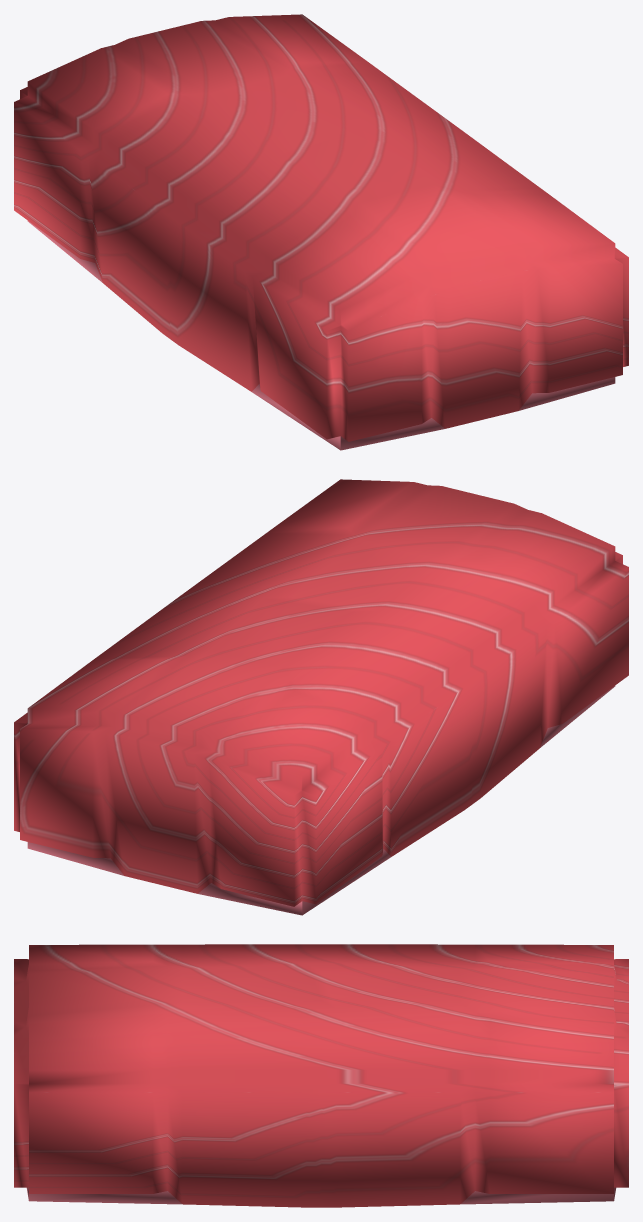
The model's file is Tuna_Fillet.glb.
3 views of the same model, one above another, from view 1: azimuth 30°, elevation 25°; view 2: azimuth 150°, elevation 25°; view 3: azimuth 270°, elevation 25° (orthographic). The views are drawn at different scales.
Visible parts, largest first — view 1: Tuna_Fillet; view 2: Tuna_Fillet; view 3: Tuna_Fillet.
Part boxes in pixels (x1,y1,x2,y2): Tuna_Fillet: [14, 14, 628, 450]; Tuna_Fillet: [14, 479, 628, 915]; Tuna_Fillet: [14, 944, 628, 1207].
Bounding box in the file's own units: 0.175 × 0.0905 × 0.33.
2 materials, 1 textured.
